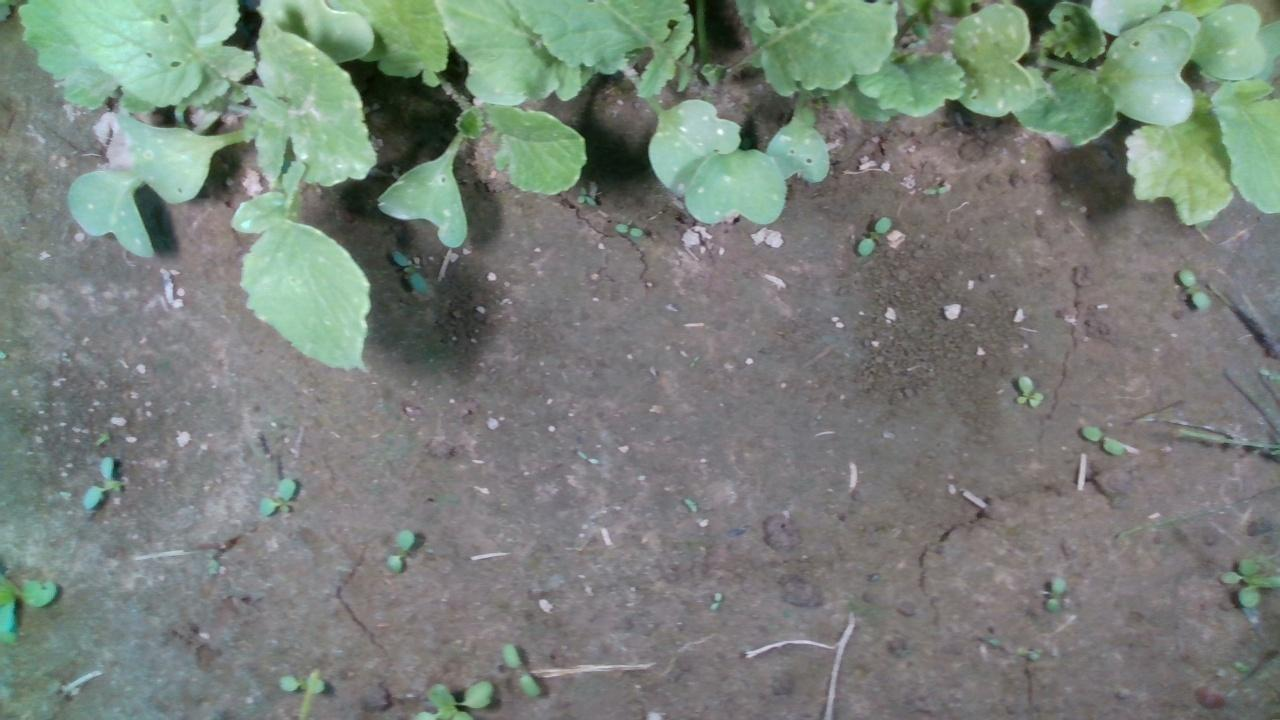weed: (499, 642, 541, 697), (78, 451, 114, 510), (389, 247, 429, 297), (257, 475, 296, 517), (854, 216, 893, 257), (1081, 423, 1124, 457), (384, 526, 415, 572), (1178, 268, 1210, 312), (1014, 374, 1044, 407), (1043, 575, 1067, 614), (575, 184, 594, 207), (613, 222, 642, 236), (708, 590, 721, 611)
